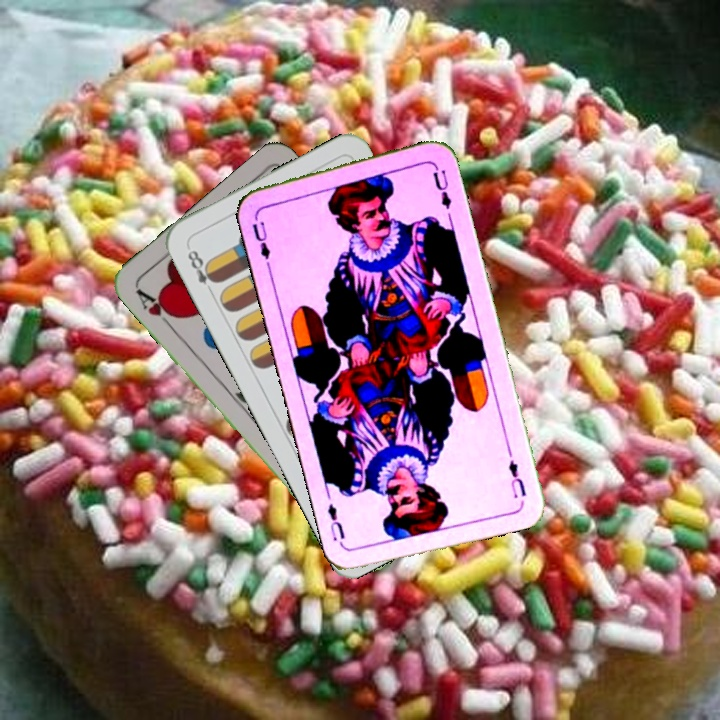E8: (183, 246, 221, 297)
EU: (248, 217, 273, 269), (504, 455, 529, 501)
HA: (132, 285, 180, 333)
